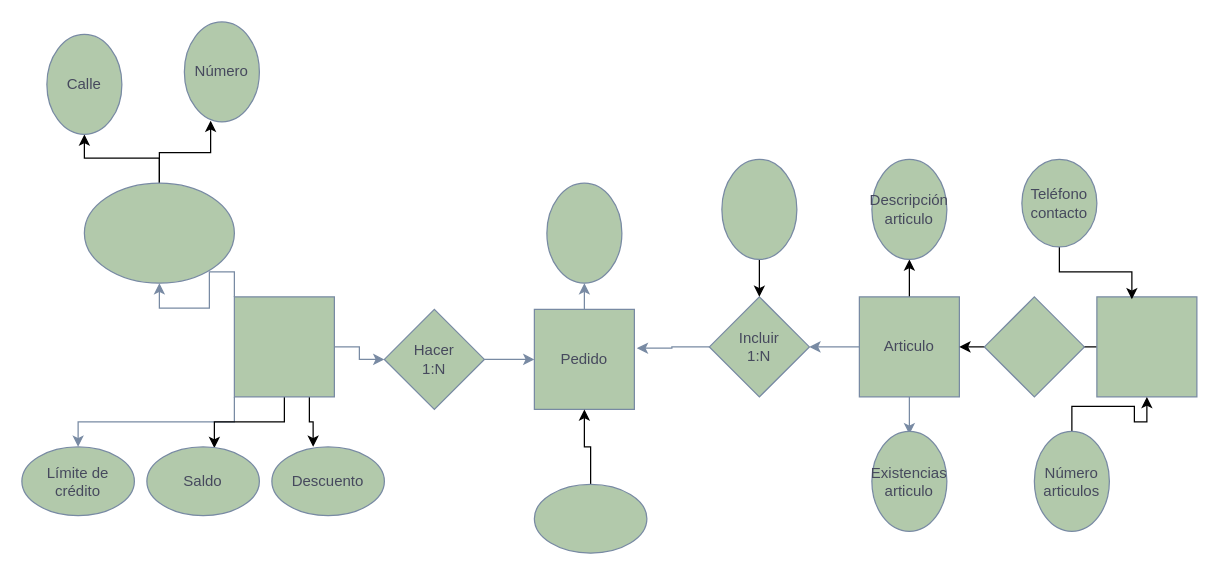
The diagram is 1219 pixels wide and 575 high, and some of its shapes have lost their labels. Each missing label, with the centre of its shape:
Cliente: pixel 283 346
Dirección: pixel 590 518
Dirección de envio: pixel 158 232
Fabrica: pixel 1146 346
Fabrica N:1: pixel 1033 346
Fecha: pixel 584 232
Número artículos: pixel 759 208
